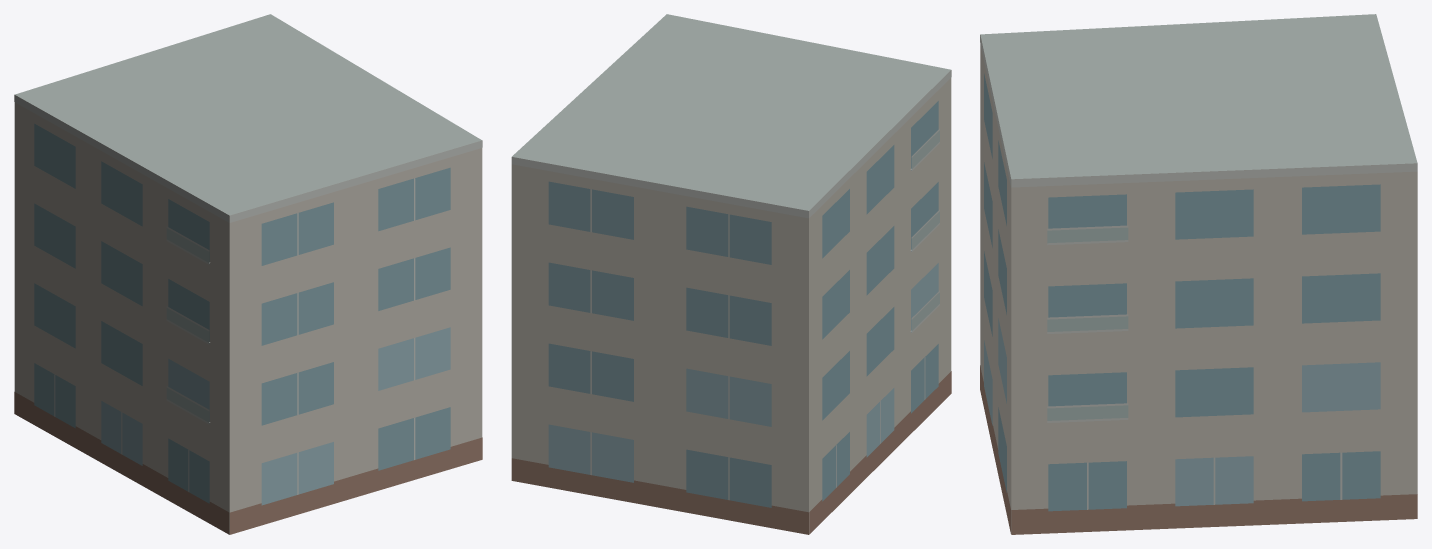
The model's file is survey-upis-32933633.glb.
3 views of the same model, side by side, from view 1: azimuth 30°, elevation 25°; view 2: azimuth 150°, elevation 25°; view 3: azimuth 270°, elevation 25° (orthographic). The views are drawn at different scales.
Visible parts, largest first — view 1: survey-upis-32933633.tmp; view 2: survey-upis-32933633.tmp; view 3: survey-upis-32933633.tmp.
Part boxes in pixels (x1,y1,x2,y2): survey-upis-32933633.tmp: (14, 14, 482, 534); survey-upis-32933633.tmp: (511, 14, 951, 534); survey-upis-32933633.tmp: (980, 14, 1417, 534).
Bounding box in the file's own units: 10.47 × 10.5 × 11.71.
